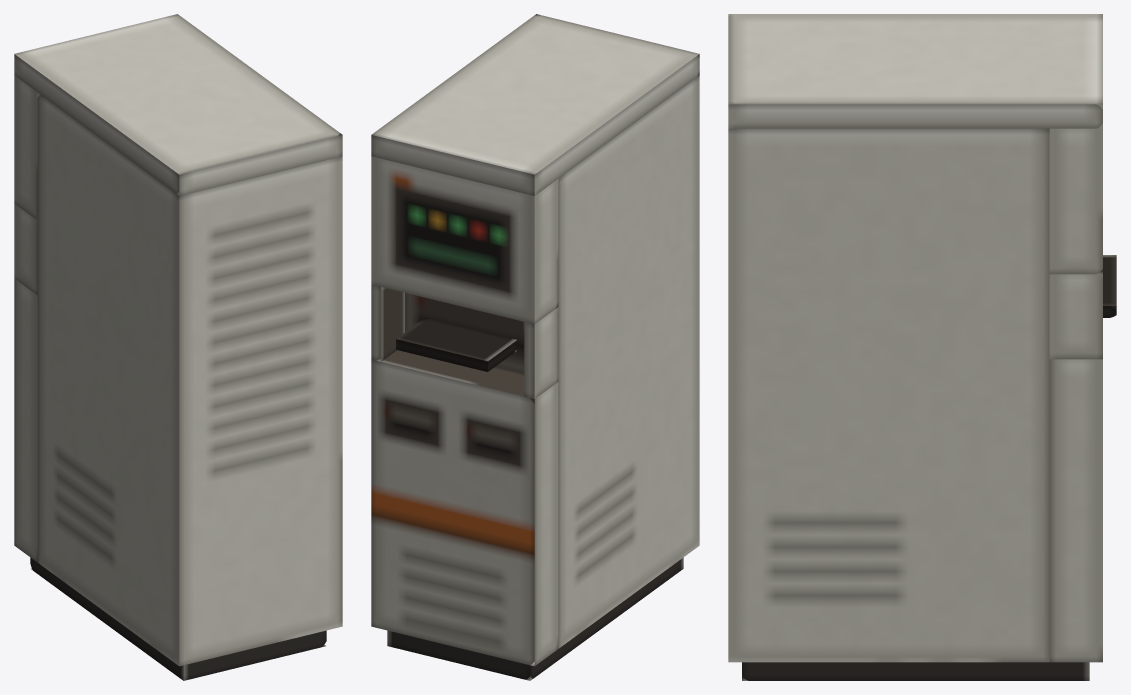
Rendered from era5_floppy_processor.obj.
3 views of the same model, side by side, from view 1: azimuth 30°, elevation 25°; view 2: azimuth 150°, elevation 25°; view 3: azimuth 270°, elevation 25° (orthographic). The views are drawn at different scales.
Parts seen in each view (by area): view 1: era5_floppy_processor; view 2: era5_floppy_processor; view 3: era5_floppy_processor.
Part boxes in pixels (x1,y1,x2,y2): era5_floppy_processor: [14, 14, 342, 680]; era5_floppy_processor: [371, 14, 699, 680]; era5_floppy_processor: [728, 14, 1116, 680].
Bounding box in the file's own units: 1 × 3 × 1.81.
